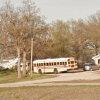Bus: (32, 54, 78, 76)
